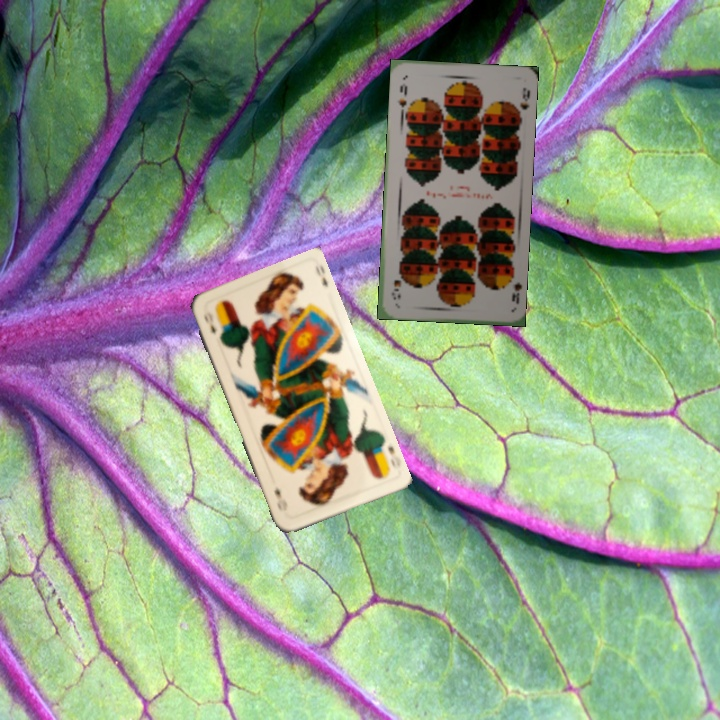EO: (383, 438, 400, 471), (199, 308, 219, 336)
S9: (503, 269, 523, 307), (393, 79, 410, 115)
